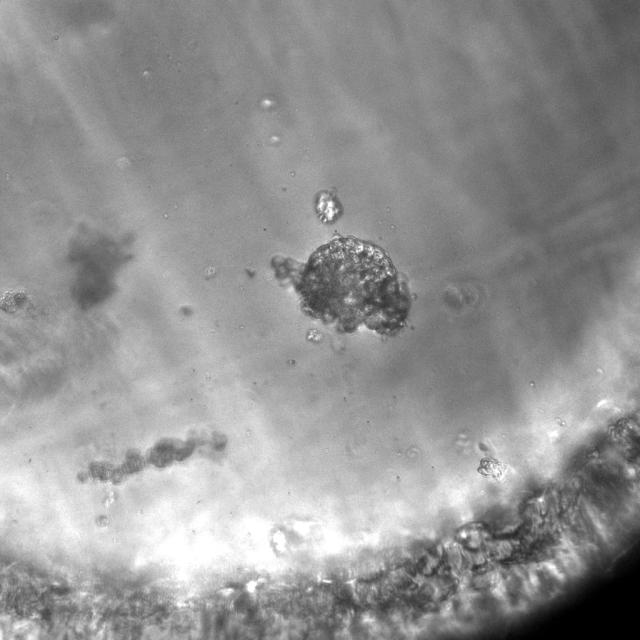organoid: (271, 234, 411, 335), (78, 431, 226, 484), (314, 187, 343, 223)
